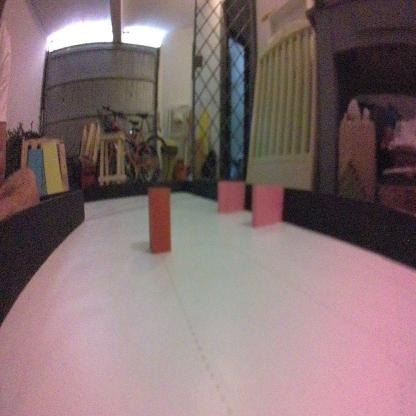magenta: (250, 183, 283, 229), (217, 181, 245, 217)
red: (146, 183, 173, 255)
